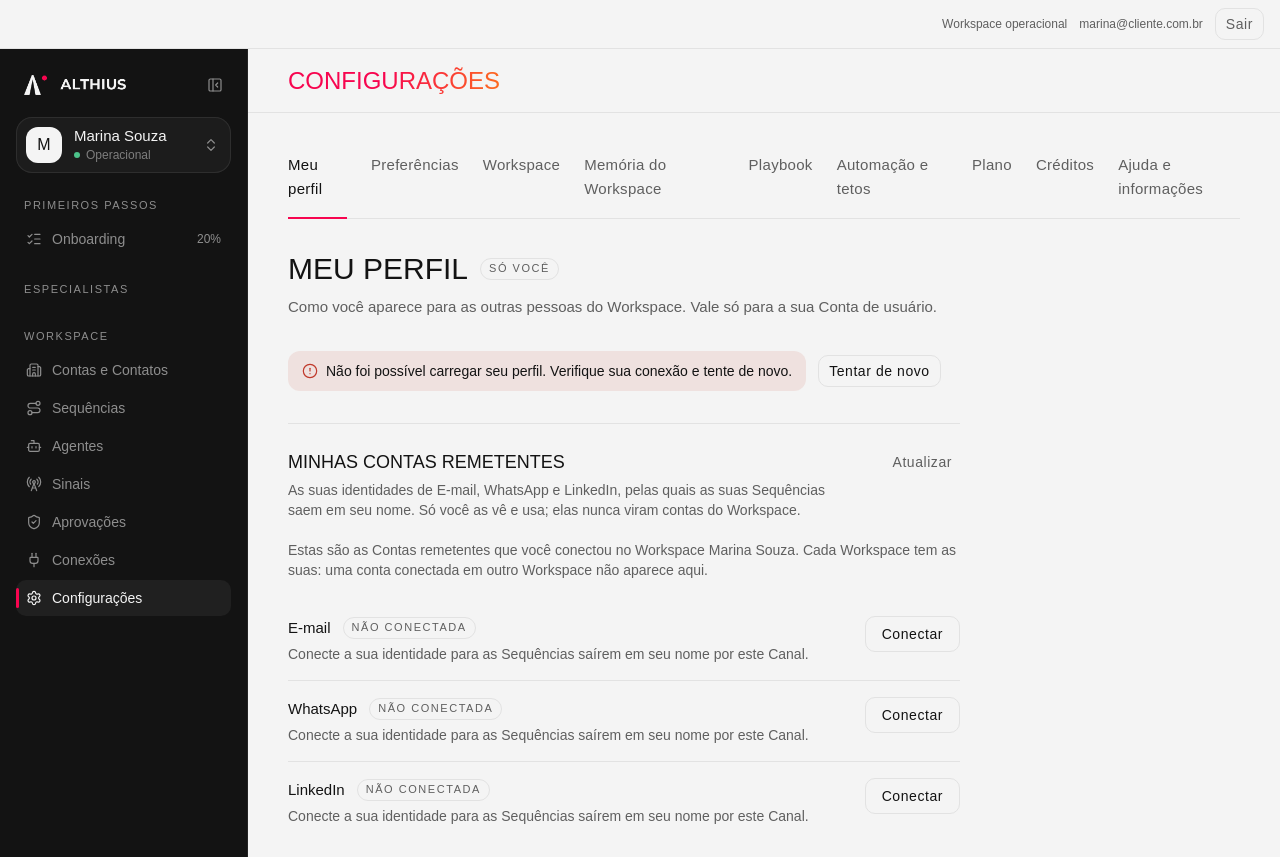
Test: Meu perfil no Workspace operacional › se o perfil não carrega, diz isso e deixa tentar de novo, sem mostrar um formulário vazio
Check: the text "Não foi possível carregar seu perfil" is shown, box [326, 363, 792, 379]
Click the button "Tentar de novo" at (879,371), box [818, 355, 941, 387]
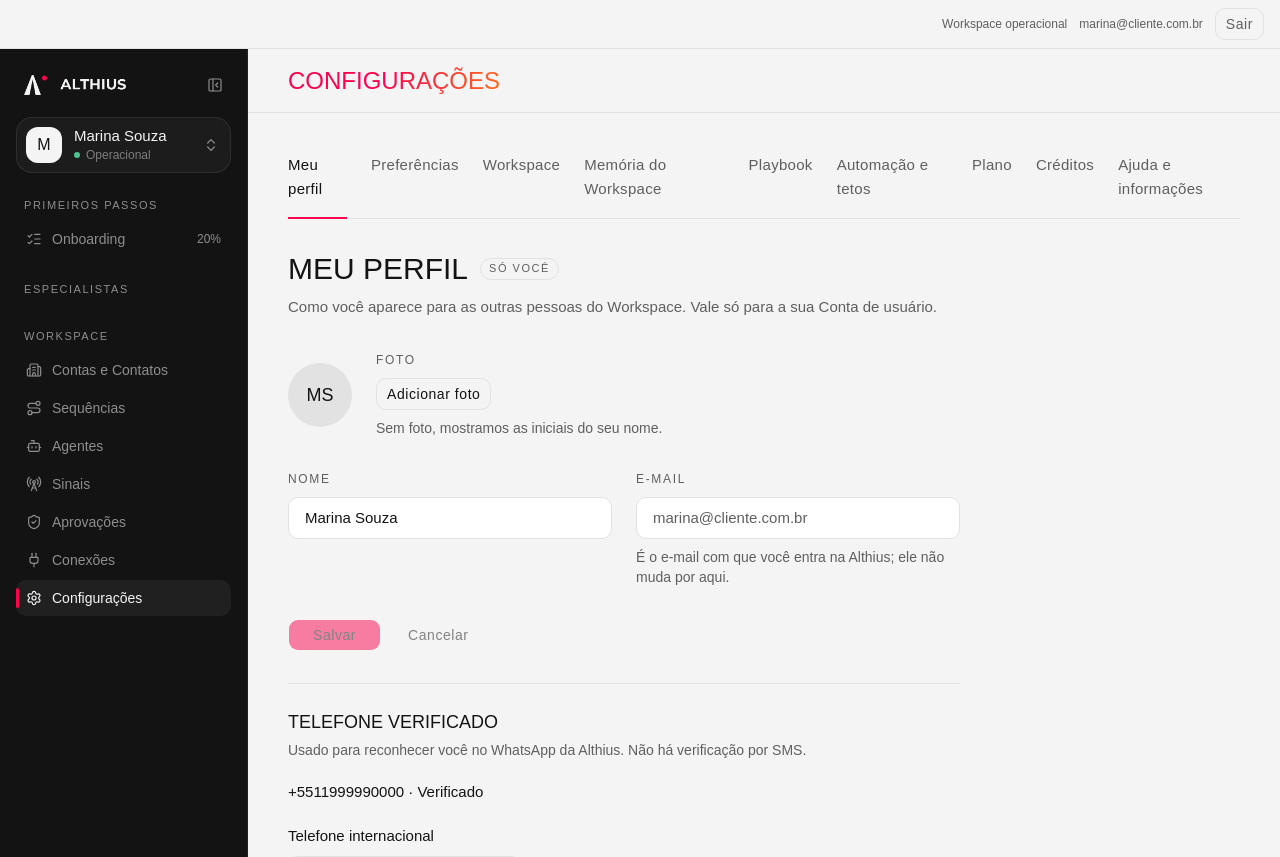
Check: the field labelled "Nome" holds "Marina Souza", box [288, 497, 612, 539]
